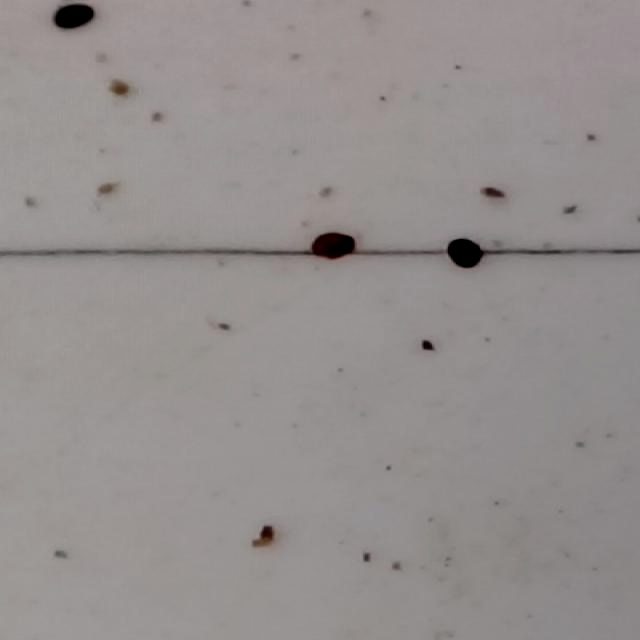varroa: (50, 3, 95, 32), (445, 237, 483, 270)
